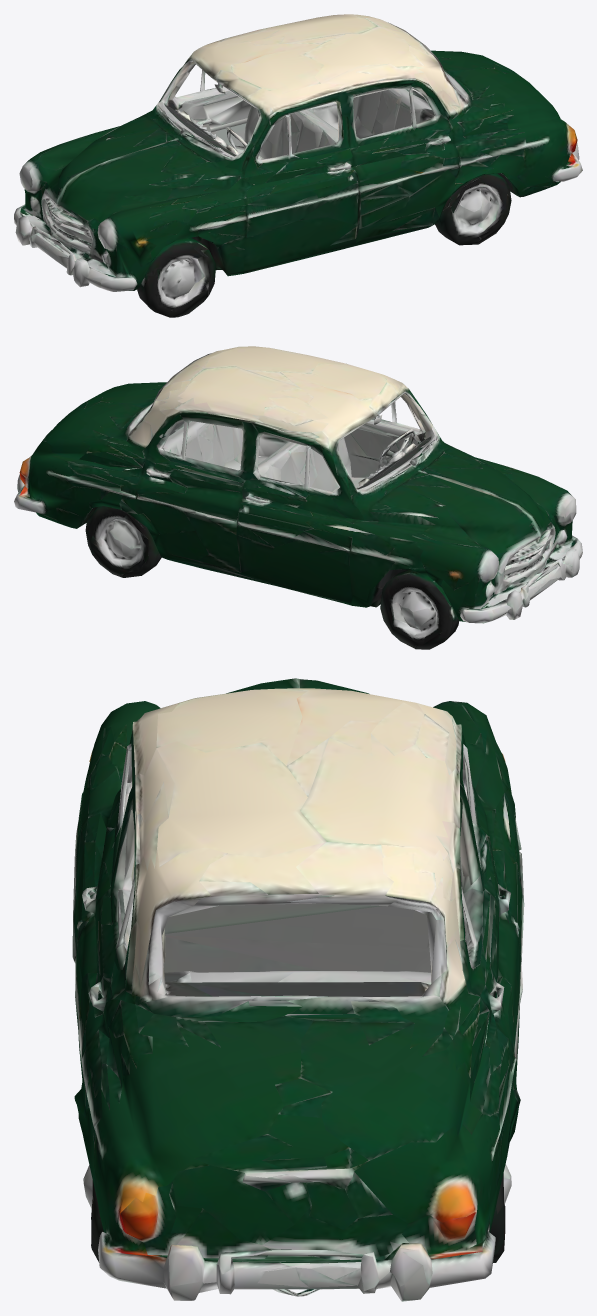
Rendered from getkong-auto2.glb.
3 renders of one model, top to bottom at view 1: azimuth 30°, elevation 25°; view 2: azimuth 150°, elevation 25°; view 3: azimuth 270°, elevation 25°, orthographic. The views are drawn at different scales.
Parts seen in each view (by area): view 1: output_unwrapped; view 2: output_unwrapped; view 3: output_unwrapped.
Boxes of the visible parts, x1,y1,x2,y2 form: output_unwrapped: [14, 14, 582, 317]; output_unwrapped: [14, 346, 582, 649]; output_unwrapped: [72, 678, 524, 1301].
Bounding box in the file's own units: 1.9 × 0.7014 × 0.7427.
1 material, 1 textured.
